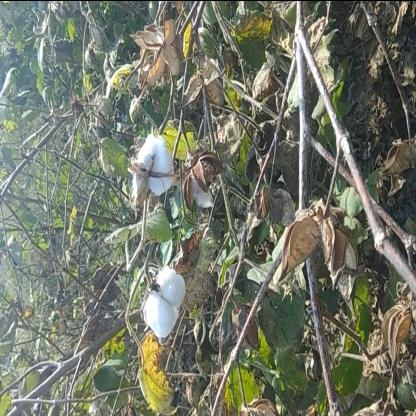cotton_ready: (128, 126, 182, 229), (142, 262, 194, 354)
